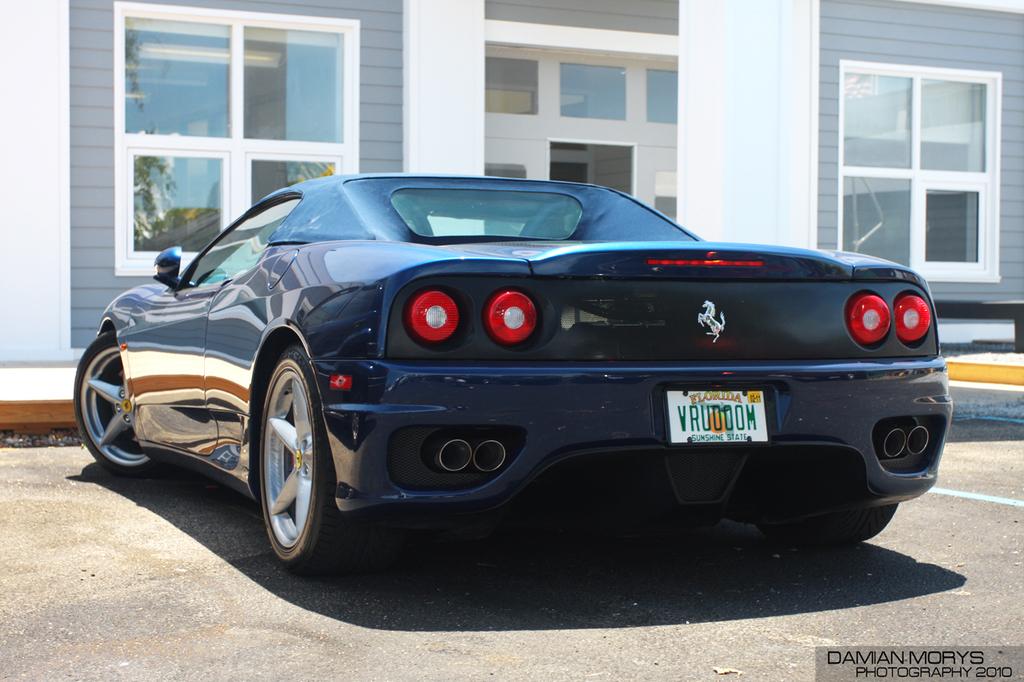license plate: (667, 388, 774, 440)
